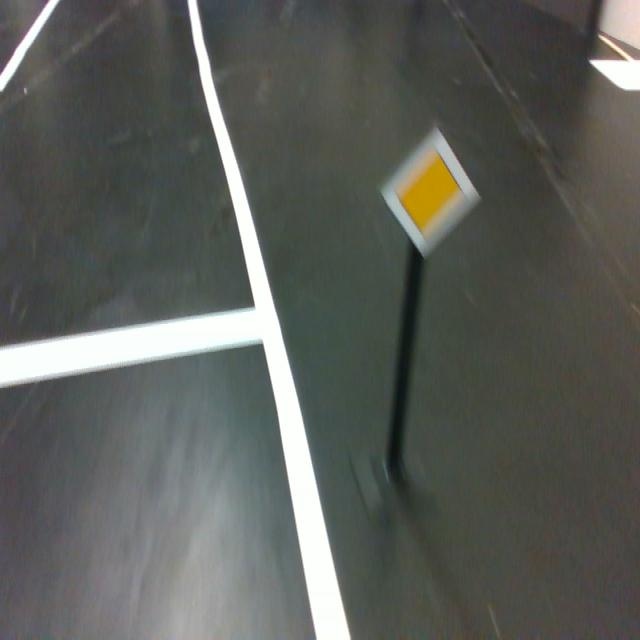priority-sign: (378, 125, 482, 261)
